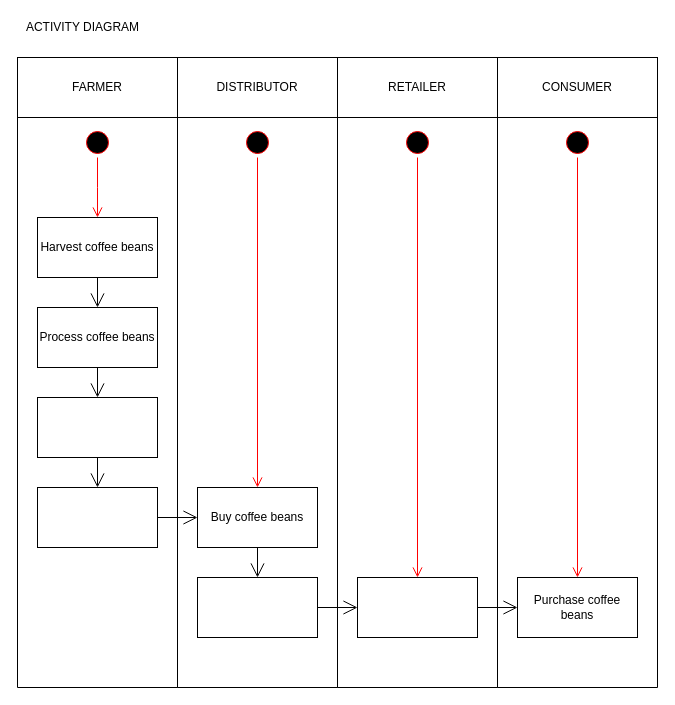
Image size: 675x705. Some labels were removed from this diagram. Each missing label, with the box of its shape:
For Sell coffee beans: (36, 486, 158, 548)
Pack coffee beans: (36, 396, 158, 458)
Receive coffee beans: (356, 576, 478, 638)
Ship coffee beans: (196, 576, 318, 638)
